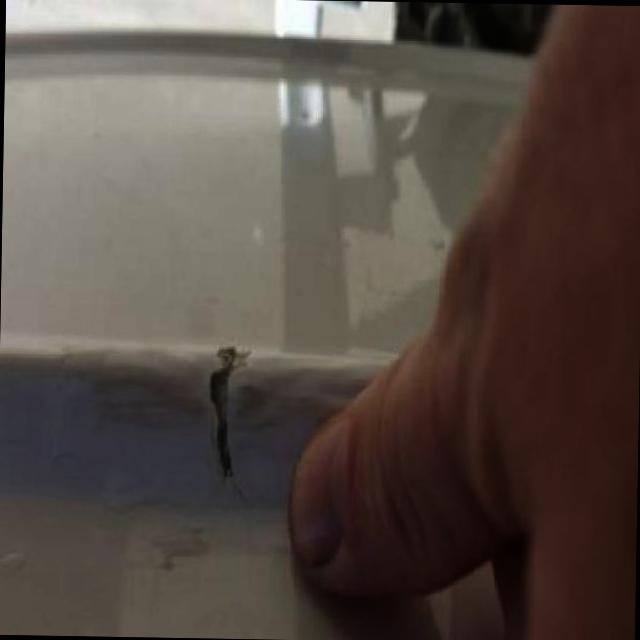crack: (206, 343, 251, 504)
